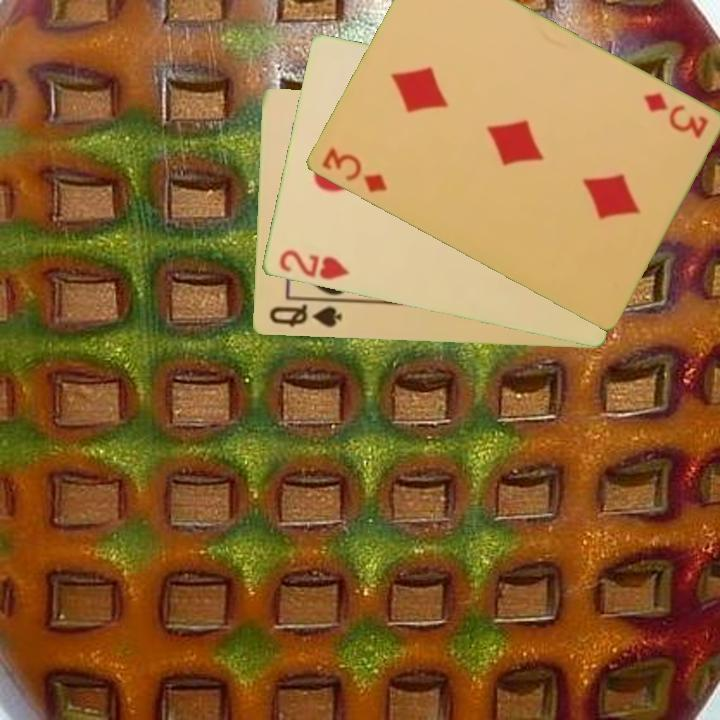2h: (275, 246, 352, 283)
3d: (639, 89, 711, 142), (317, 144, 390, 196)
Qs: (265, 301, 344, 331)
